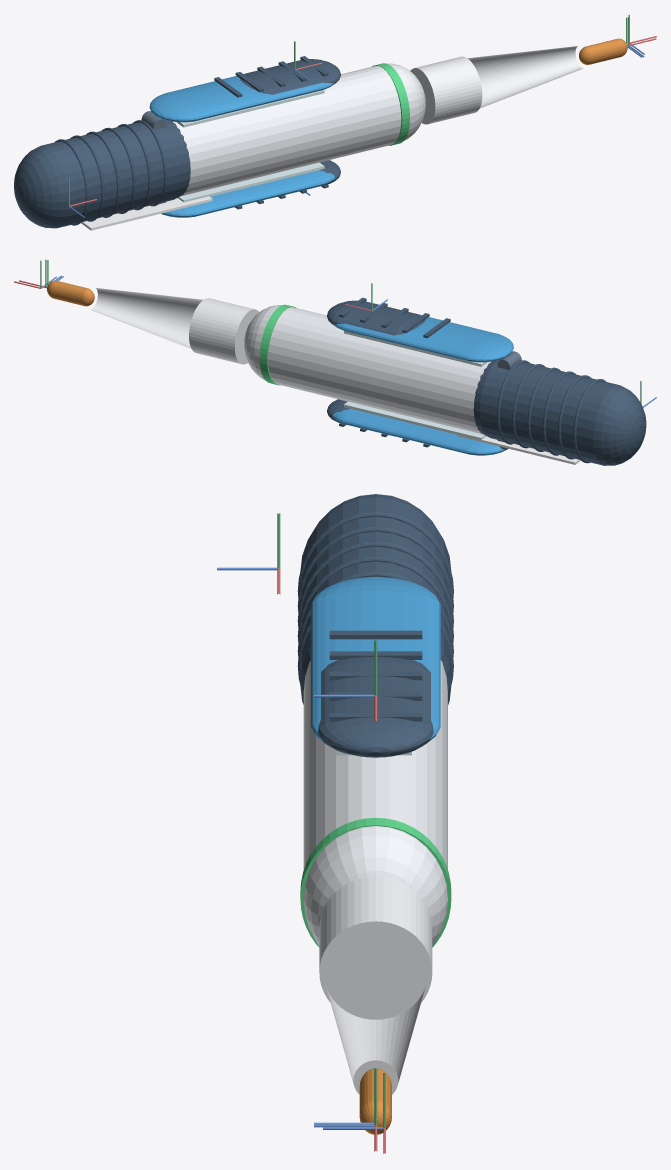
The model's file is dranmar_skin_adhesive_frame_debug.glb.
3 views of the same model, one above another, from view 1: azimuth 30°, elevation 25°; view 2: azimuth 150°, elevation 25°; view 3: azimuth 270°, elevation 25° (orthographic). The views are drawn at different scales.
Visible parts, largest first — view 1: Body_BodyShell, Body_RearGrip, Body_Nozzle, LeftPaddle_PaddleBody, Body_NozzleCollar, RightPaddle_PaddleBody, LeftPaddle_ThumbPad, Body_LabelPanel, Body_ReservoirWindowRight, Body_ApplicatorWick, Body_StateIndicator, Body_ReservoirWindowLeft (+6 smaller); view 2: Body_BodyShell, Body_RearGrip, Body_Nozzle, LeftPaddle_PaddleBody, Body_NozzleCollar, RightPaddle_PaddleBody, LeftPaddle_ThumbPad, Body_ReservoirWindowRight, Body_ApplicatorWick, Body_StateIndicator, Body_LabelPanel, Body_ReservoirWindowLeft (+6 smaller); view 3: Body_BodyShell, Body_NozzleCollar, LeftPaddle_PaddleBody, Body_RearGrip, LeftPaddle_ThumbPad, Body_Nozzle, Body_StateIndicator, Body_ApplicatorWick, Body_GripRib_02, Body_GripRib_03, Body_GripRib_01, Body_GripRib_00 (+1 smaller).
Part boxes in pixels (left/top/right/bottom): Body_BodyShell: left=173, top=63, right=425, bottom=196; Body_RearGrip: left=14, top=119, right=190, bottom=228; Body_Nozzle: left=468, top=46, right=583, bottom=108; LeftPaddle_PaddleBody: left=149, top=76, right=334, bottom=122; Body_NozzleCollar: left=410, top=56, right=482, bottom=124; RightPaddle_PaddleBody: left=161, top=170, right=334, bottom=217; LeftPaddle_ThumbPad: left=240, top=59, right=340, bottom=94; Body_LabelPanel: left=81, top=196, right=212, bottom=230; Body_ReservoirWindowRight: left=177, top=162, right=324, bottom=202; Body_ApplicatorWick: left=579, top=38, right=627, bottom=64; Body_StateIndicator: left=372, top=63, right=409, bottom=145; Body_ReservoirWindowLeft: left=177, top=90, right=324, bottom=127; Body_BodyShell: left=244, top=305, right=490, bottom=434; Body_RearGrip: left=473, top=359, right=646, bottom=465; Body_Nozzle: left=90, top=288, right=203, bottom=348; LeftPaddle_PaddleBody: left=333, top=317, right=513, bottom=362; Body_NozzleCollar: left=189, top=298, right=259, bottom=364; RightPaddle_PaddleBody: left=333, top=408, right=507, bottom=455; LeftPaddle_ThumbPad: left=327, top=300, right=425, bottom=335; Body_ReservoirWindowRight: left=344, top=401, right=486, bottom=440; Body_ApplicatorWick: left=47, top=280, right=94, bottom=306; Body_StateIndicator: left=259, top=304, right=296, bottom=385; Body_LabelPanel: left=457, top=435, right=580, bottom=464; Body_ReservoirWindowLeft: left=344, top=331, right=486, bottom=366; Body_BodyShell: left=303, top=660, right=447, bottom=945; Body_NozzleCollar: left=319, top=876, right=432, bottom=1019; LeftPaddle_PaddleBody: left=311, top=577, right=440, bottom=741; Body_RearGrip: left=300, top=494, right=451, bottom=704; LeftPaddle_ThumbPad: left=318, top=657, right=433, bottom=757; Body_Nozzle: left=326, top=986, right=425, bottom=1094; Body_StateIndicator: left=300, top=817, right=451, bottom=947; Body_ApplicatorWick: left=359, top=1068, right=391, bottom=1134; Body_GripRib_02: left=297, top=541, right=453, bottom=627; Body_GripRib_03: left=297, top=556, right=453, bottom=642; Body_GripRib_01: left=297, top=526, right=453, bottom=612; Body_GripRib_00: left=297, top=511, right=453, bottom=597.
Bounding box in the file's own units: 0.1635 × 0.0351 × 0.0268.
